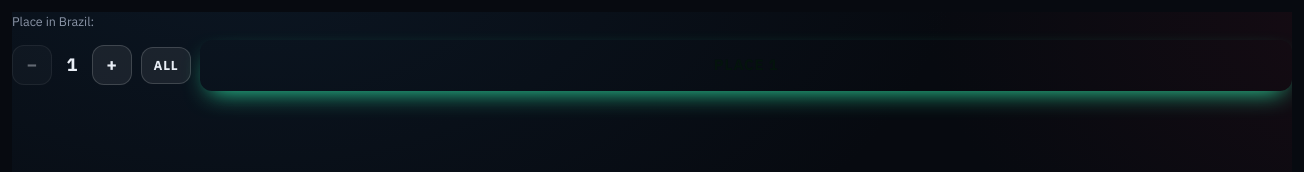
Test: ReinforceStepper › 'All' sets the amount to max
The image size is (1304, 172).
Click the button with test id "reinforce-all": (166,65) [141,47,191,84]
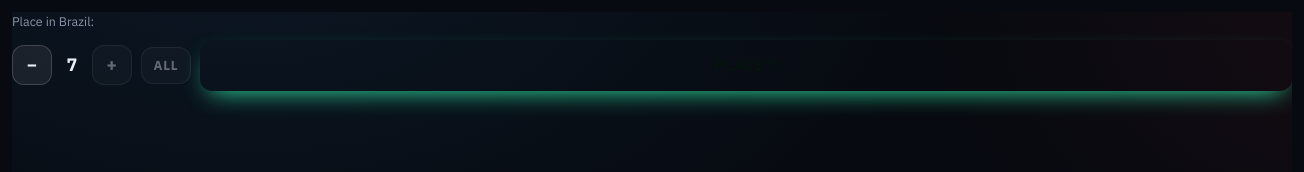
expect the text with test id "reinforce-amount" reads "7": met, box [66,53,77,76]
